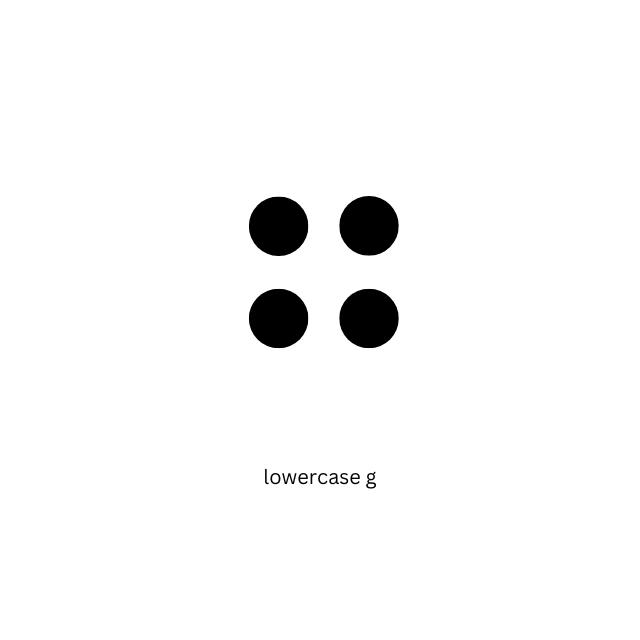letter_g: (247, 192, 400, 446)
